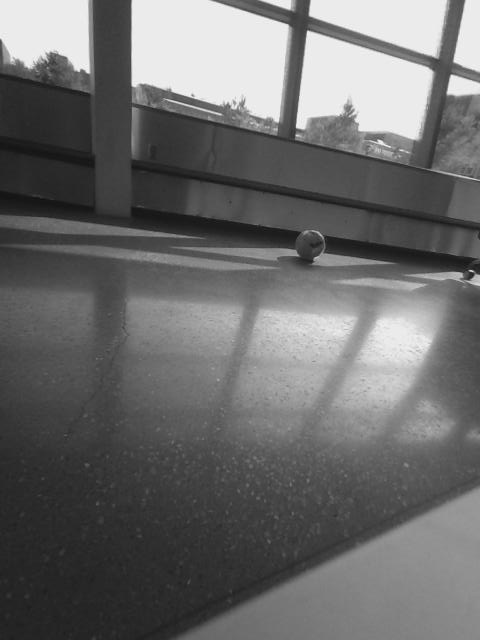ball: (294, 227, 328, 262)
